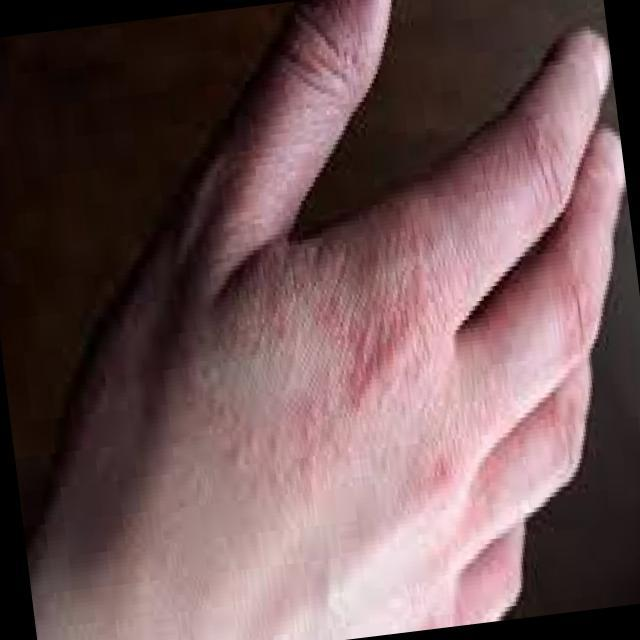Eczema: (96, 206, 423, 503)
